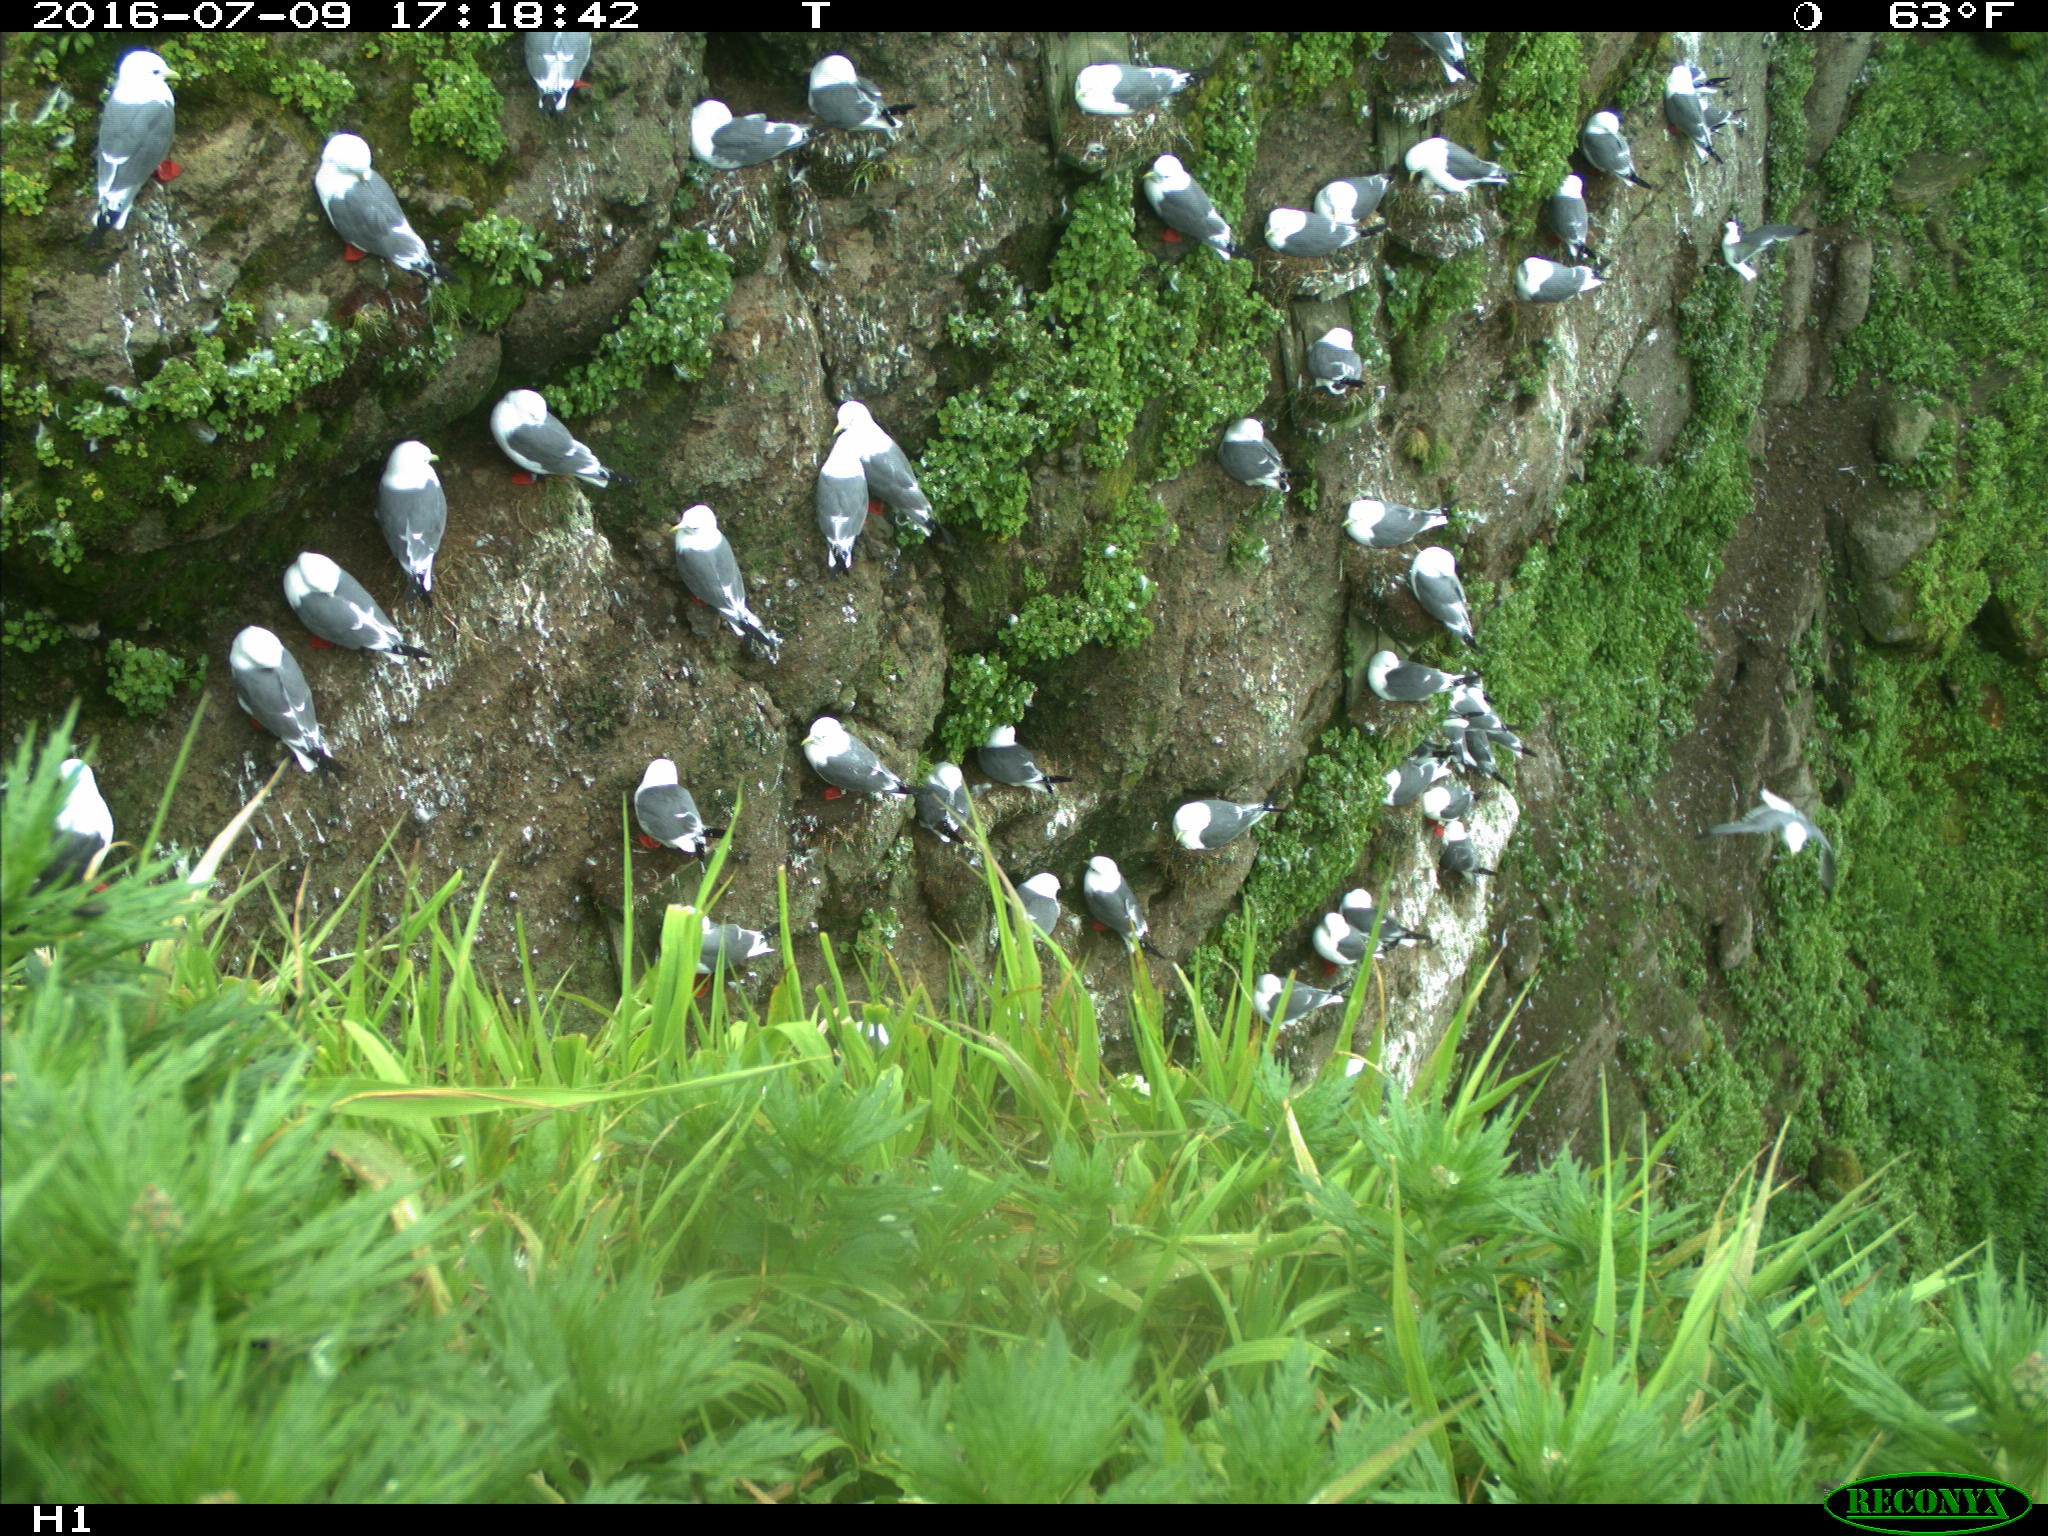Kittiwake: (277, 116, 458, 298), (350, 415, 555, 563), (52, 42, 202, 234), (194, 615, 400, 753), (632, 889, 848, 1005), (281, 529, 450, 674), (464, 369, 639, 508), (827, 392, 963, 553), (640, 481, 764, 655), (784, 694, 893, 870), (1055, 828, 1156, 999), (1114, 148, 1255, 266), (651, 86, 837, 174), (1401, 520, 1517, 658), (1650, 69, 1767, 194), (782, 428, 892, 558), (595, 749, 724, 858), (1047, 45, 1224, 124), (1250, 189, 1409, 274), (1380, 118, 1508, 224), (772, 50, 921, 140), (34, 757, 126, 902), (1226, 960, 1366, 1054), (972, 708, 1079, 821), (1295, 884, 1408, 989), (1355, 645, 1492, 728), (1138, 795, 1316, 858), (1335, 481, 1434, 592), (998, 865, 1090, 983), (1405, 800, 1522, 892), (1496, 245, 1625, 329), (1329, 854, 1429, 954), (1534, 179, 1646, 266), (1206, 408, 1297, 508), (906, 742, 987, 854), (1300, 140, 1414, 216), (511, 27, 601, 119), (1359, 741, 1471, 808), (1292, 331, 1384, 403), (1563, 98, 1634, 192)
